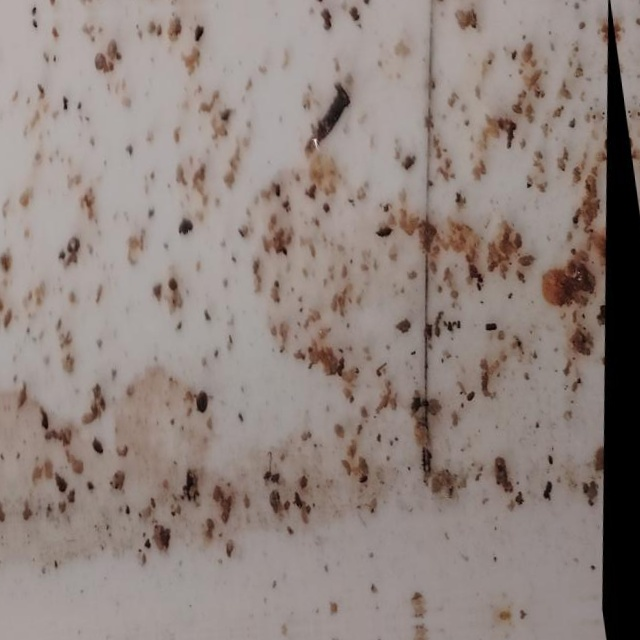varroa: (96, 436, 111, 456), (201, 391, 214, 414)
